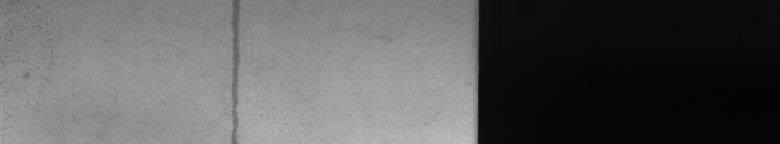hd: (227, 4, 245, 136)
